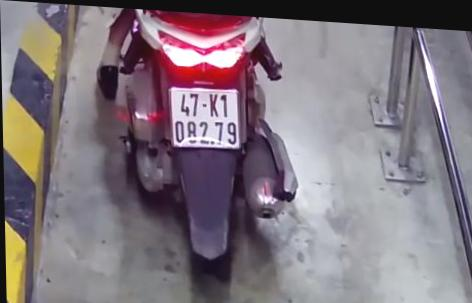License_Plate: (164, 84, 247, 158)
